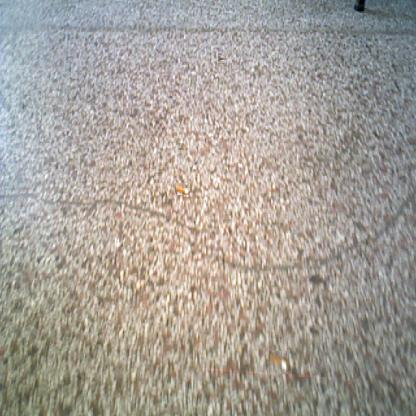dirty: (268, 350, 288, 374), (176, 183, 192, 195), (217, 55, 226, 64)
